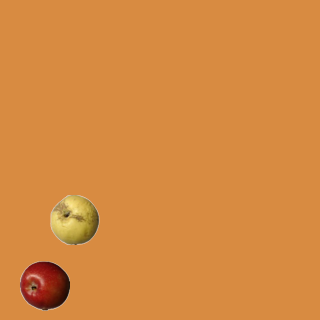Apple Braeburn: (19, 260, 69, 310)
Apple Golden 1: (49, 194, 99, 244)
